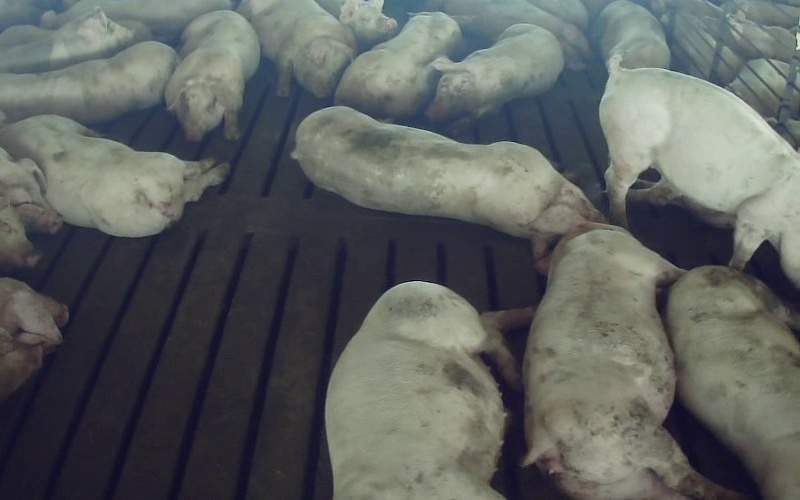pig: (524, 226, 737, 499), (292, 106, 603, 266), (599, 57, 799, 286), (325, 282, 533, 499), (666, 266, 799, 499), (335, 11, 476, 119), (0, 41, 178, 123), (426, 24, 563, 120), (165, 10, 259, 140), (238, 0, 356, 97), (444, 0, 590, 69), (591, 0, 670, 68)
